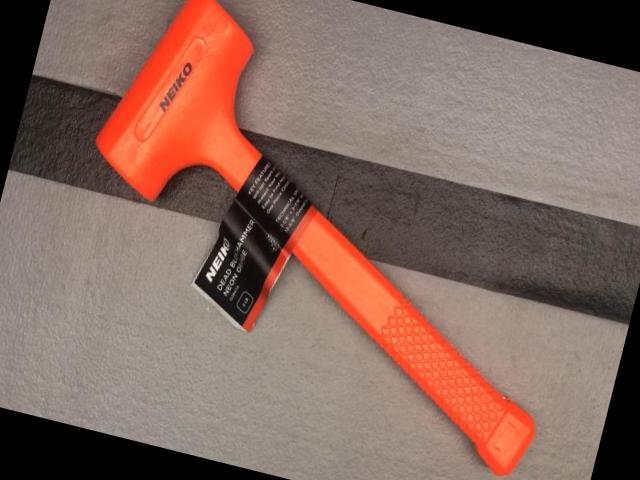hammer: (38, 0, 619, 480)
